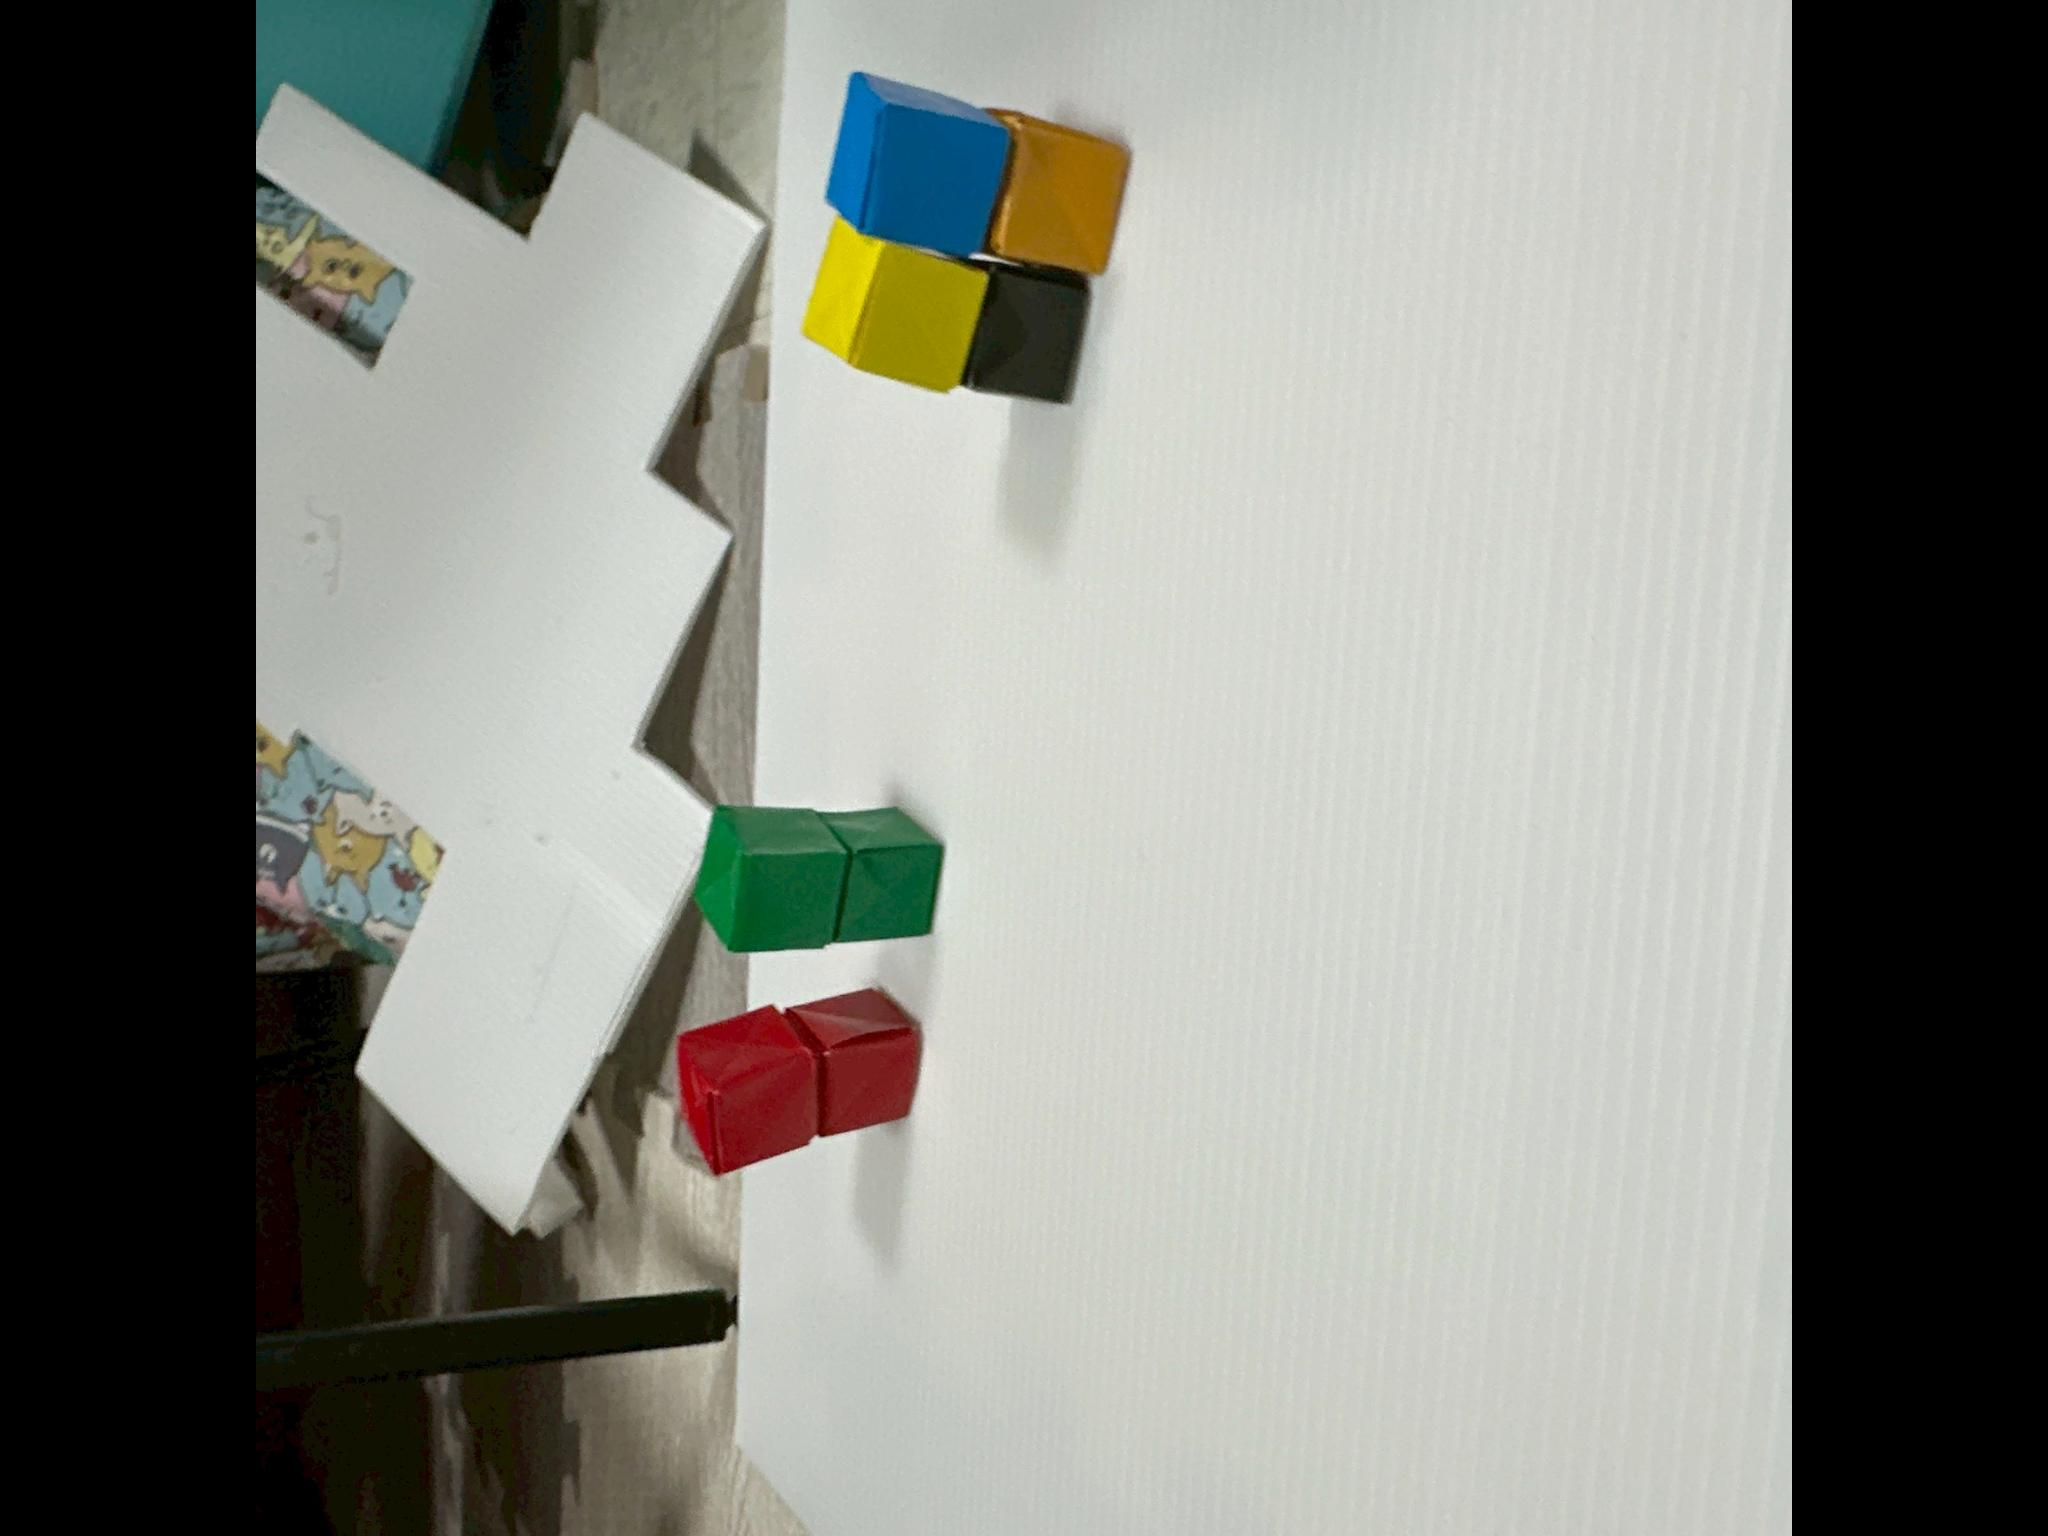cube: (826, 71, 1011, 255), (803, 218, 989, 390), (985, 108, 1129, 273), (677, 1005, 818, 1173), (695, 805, 848, 950), (784, 987, 919, 1134), (816, 807, 943, 941), (964, 265, 1087, 400)
